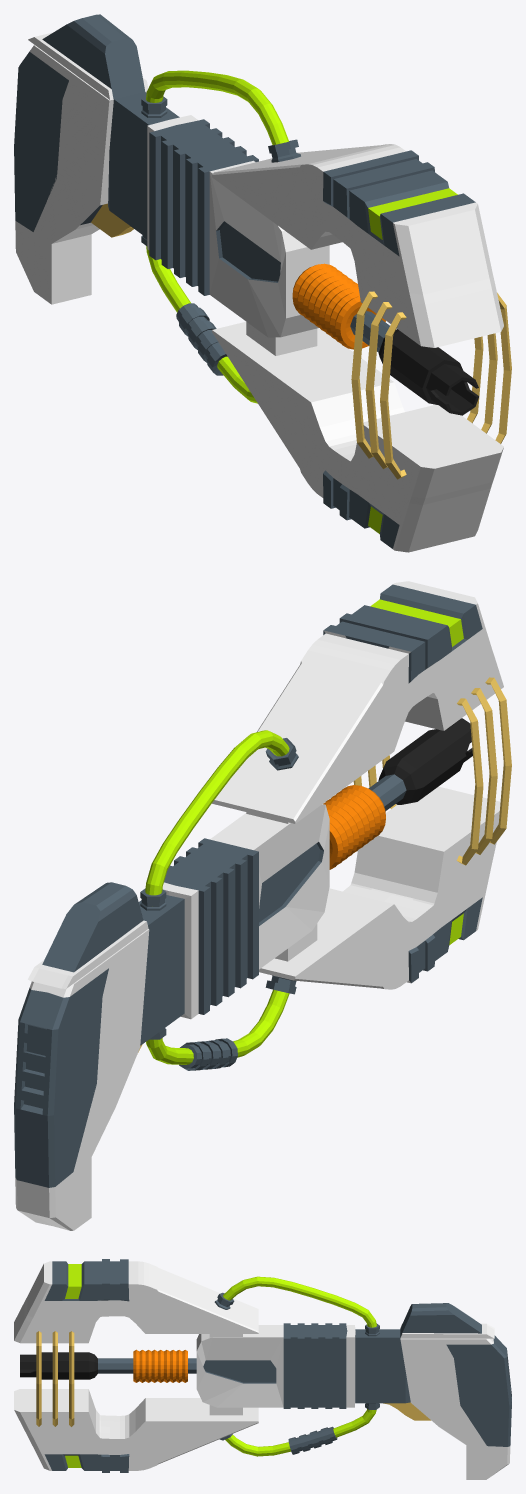
File: Gun.fbx
3 renders of one model, top to bottom at view 1: azimuth 30°, elevation 25°; view 2: azimuth 150°, elevation 25°; view 3: azimuth 270°, elevation 25°, orthographic. The views are drawn at different scales.
Visible parts, largest first — view 1: Wings, Main, Handle, ForceMultiplier, PlasmaTubes, Mag, Barrel, InductorCoil, Screws, Trigger; view 2: Wings, Main, Handle, PlasmaTubes, Mag, Barrel, ForceMultiplier, InductorCoil, Screws; view 3: Wings, Main, Handle, PlasmaTubes, Mag, Barrel, InductorCoil, ForceMultiplier, Screws, Trigger.
Part boxes in pixels (left/top/right/bottom): Wings: left=212, top=144, right=503, bottom=552; Main: left=108, top=91, right=329, bottom=337; Handle: left=14, top=45, right=146, bottom=304; ForceMultiplier: left=351, top=291, right=511, bottom=479; PlasmaTubes: left=146, top=70, right=288, bottom=403; Mag: left=28, top=14, right=148, bottom=99; Barrel: left=350, top=311, right=479, bottom=415; InductorCoil: left=292, top=263, right=385, bottom=349; Screws: left=141, top=96, right=300, bottom=246; Trigger: left=91, top=203, right=133, bottom=237; Wings: left=212, top=581, right=503, bottom=989; Main: left=138, top=804, right=329, bottom=1045; Handle: left=14, top=929, right=149, bottom=1230; PlasmaTubes: left=145, top=730, right=289, bottom=1070; Mag: left=28, top=882, right=148, bottom=988; Barrel: left=368, top=718, right=472, bottom=811; ForceMultiplier: left=353, top=677, right=511, bottom=865; InductorCoil: left=323, top=785, right=385, bottom=869; Screws: left=140, top=738, right=298, bottom=1039; Wings: left=14, top=1259, right=258, bottom=1472; Main: left=196, top=1323, right=410, bottom=1408; Handle: left=400, top=1335, right=511, bottom=1479; PlasmaTubes: left=223, top=1276, right=376, bottom=1456; Mag: left=400, top=1303, right=494, bottom=1338; Barrel: left=20, top=1352, right=196, bottom=1379; InductorCoil: left=133, top=1349, right=187, bottom=1382; ForceMultiplier: left=36, top=1331, right=74, bottom=1426; Screws: left=214, top=1292, right=379, bottom=1440; Trigger: left=383, top=1402, right=430, bottom=1420.
Size of the model in its own units: 803 by 2065 by 4594.
